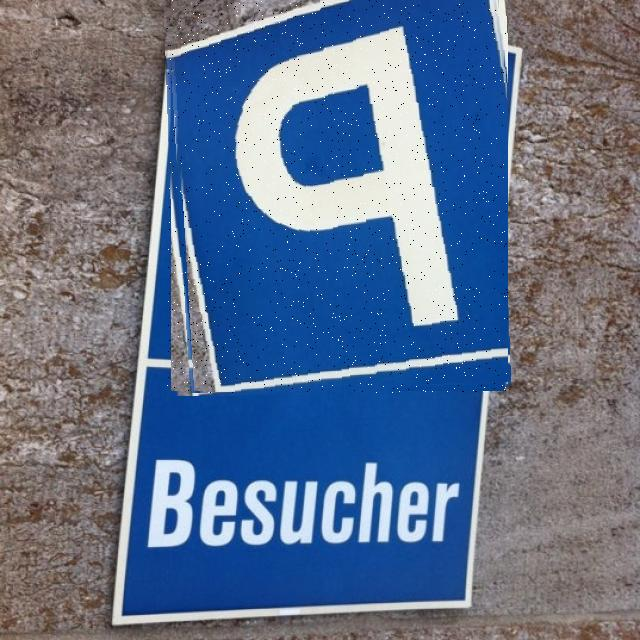parking: (167, 0, 508, 393)
